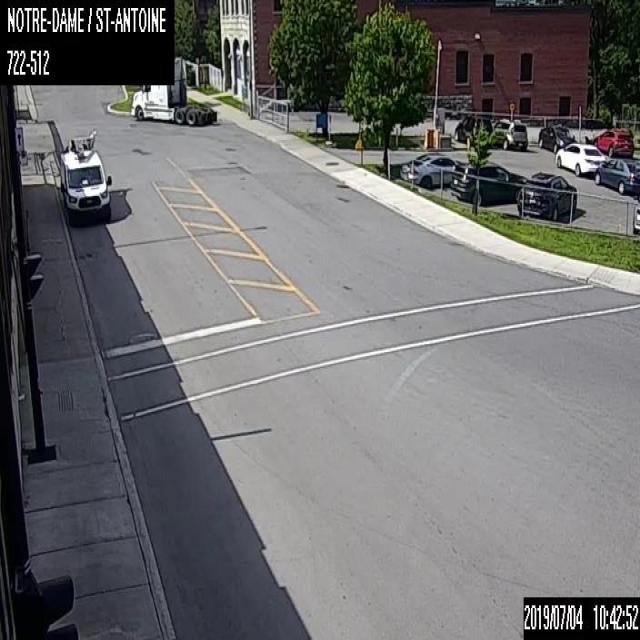vehicle: (129, 56, 216, 124), (58, 136, 111, 223), (450, 160, 528, 203), (516, 171, 576, 216), (400, 152, 458, 186), (555, 142, 606, 175), (594, 157, 639, 193), (454, 114, 492, 147), (592, 127, 633, 157), (492, 118, 528, 149), (538, 124, 577, 151), (631, 193, 639, 232)
